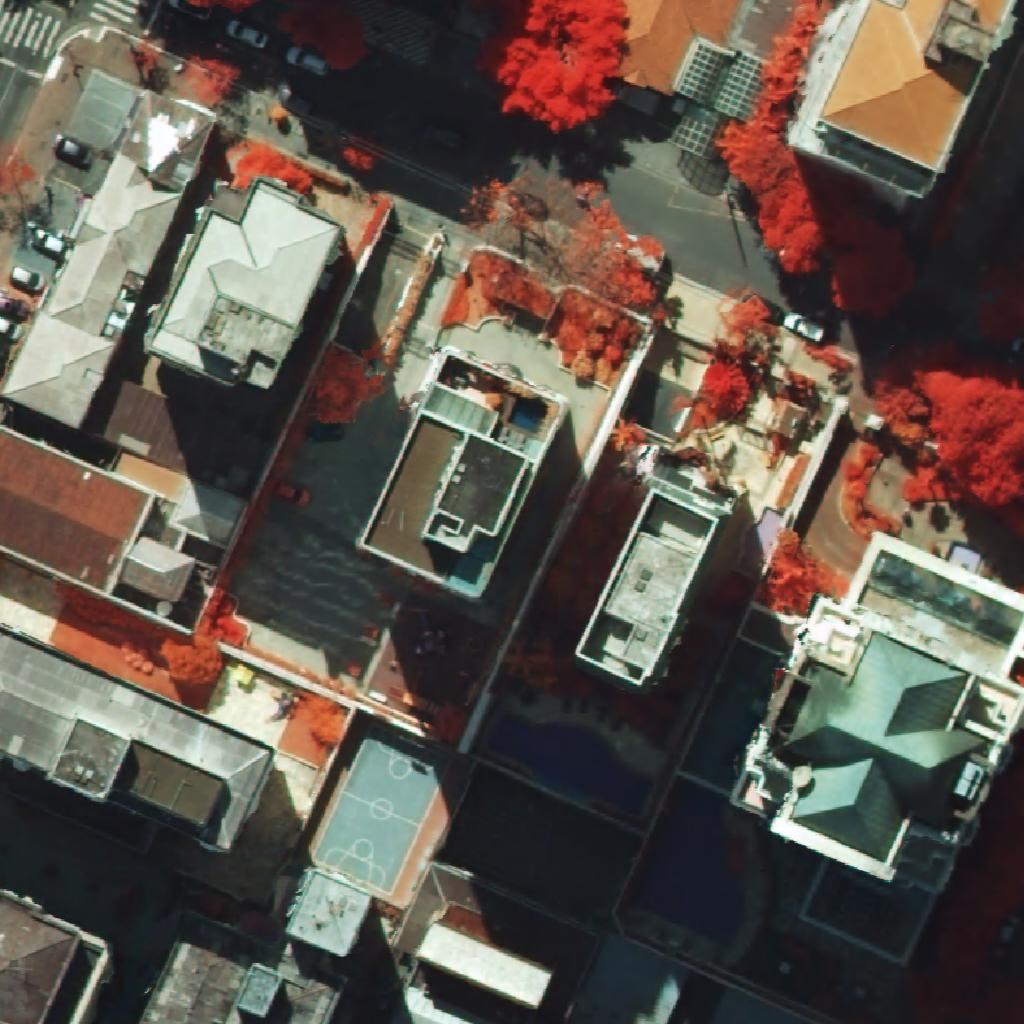pool: (491, 716, 653, 816)
